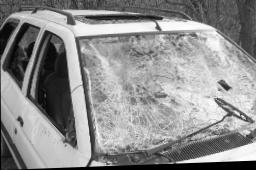Windshield: (80, 32, 256, 153)
